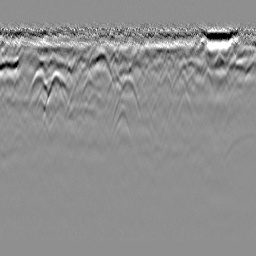cavity: (110, 72, 143, 125)
